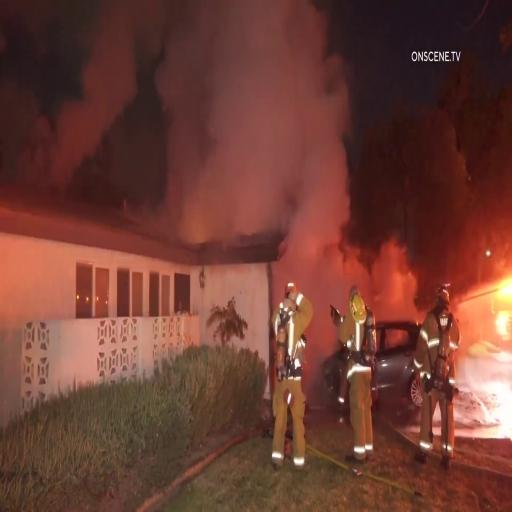smoke: (5, 1, 410, 241), (284, 228, 350, 284)
